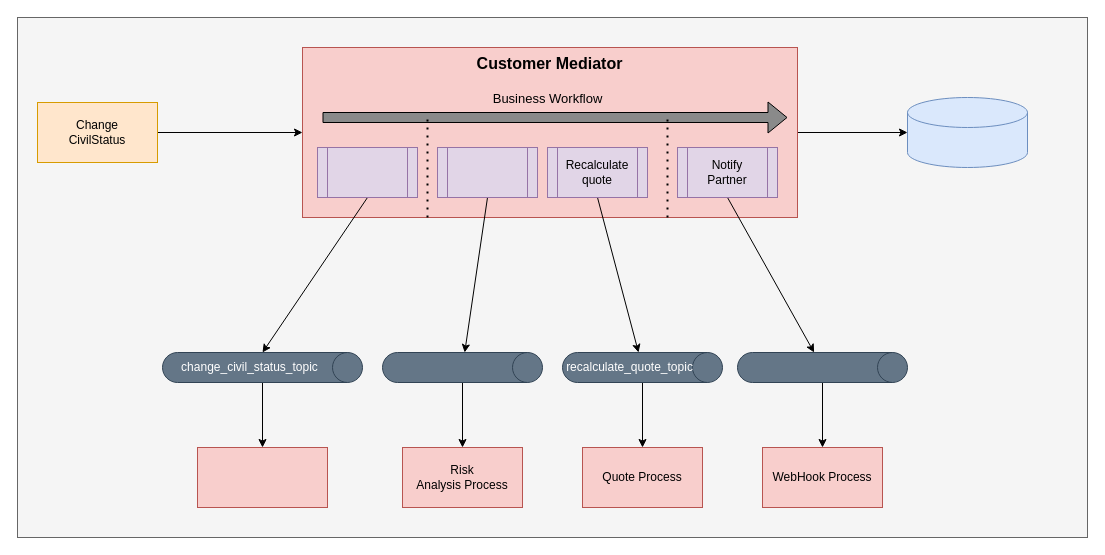
Image size: 1105x555. Some labels were removed from this diagram. Here are the shapes that lost their labels. From the top down, the centre of each, then its label:
(367,172): ChangeCivil Status
(487,172): Recalculate risk
(462,367): recalculate_risk_topic
(822,367): notify_partner_topic
(262,477): Customer Process
